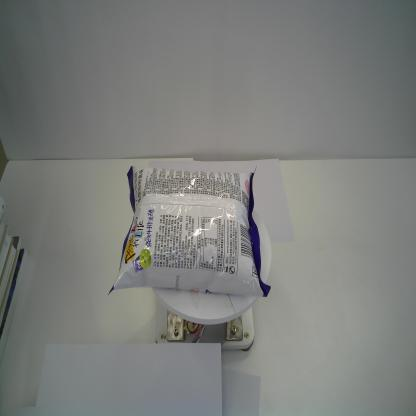Puffed Food: (104, 163, 272, 299)
